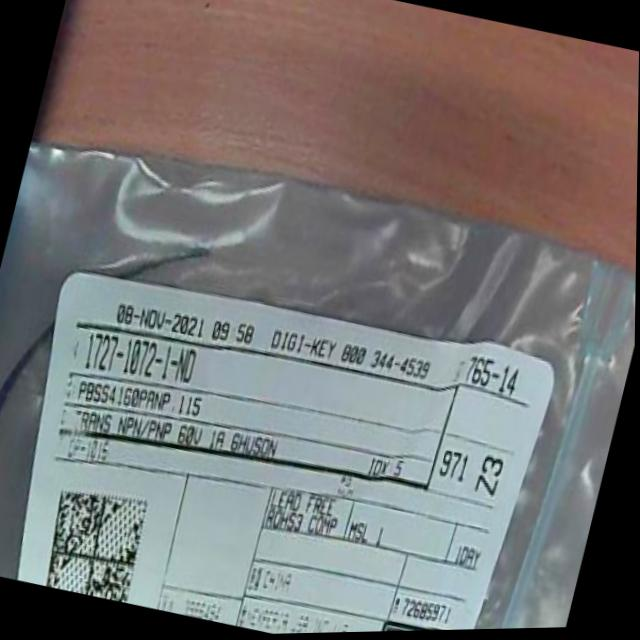datamatrix: (38, 479, 157, 606)
